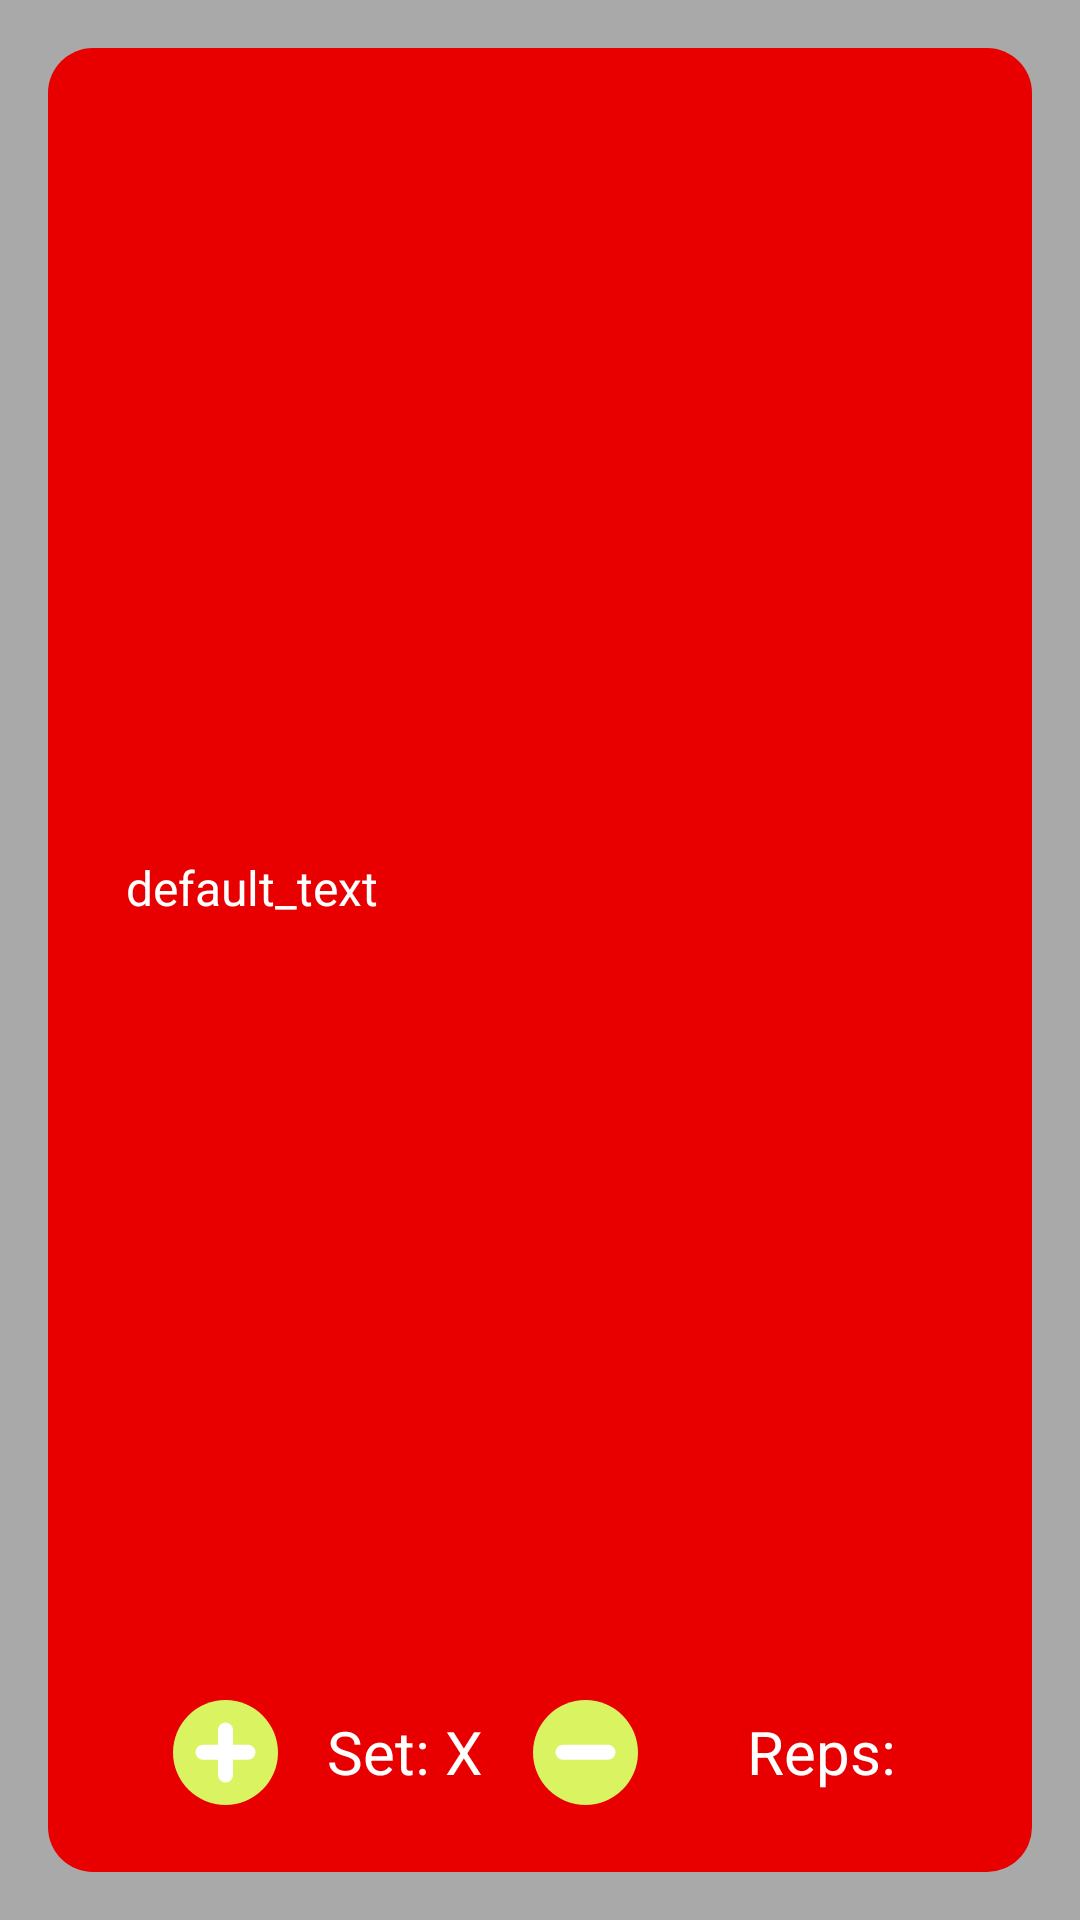

Locate icon controls on the screen. Image size 1080 x 1920, boxes as box=[x1, y1, x2, y2].
Decrement Set: box=[533, 1700, 638, 1805]
Increment Set: box=[173, 1700, 278, 1805]
